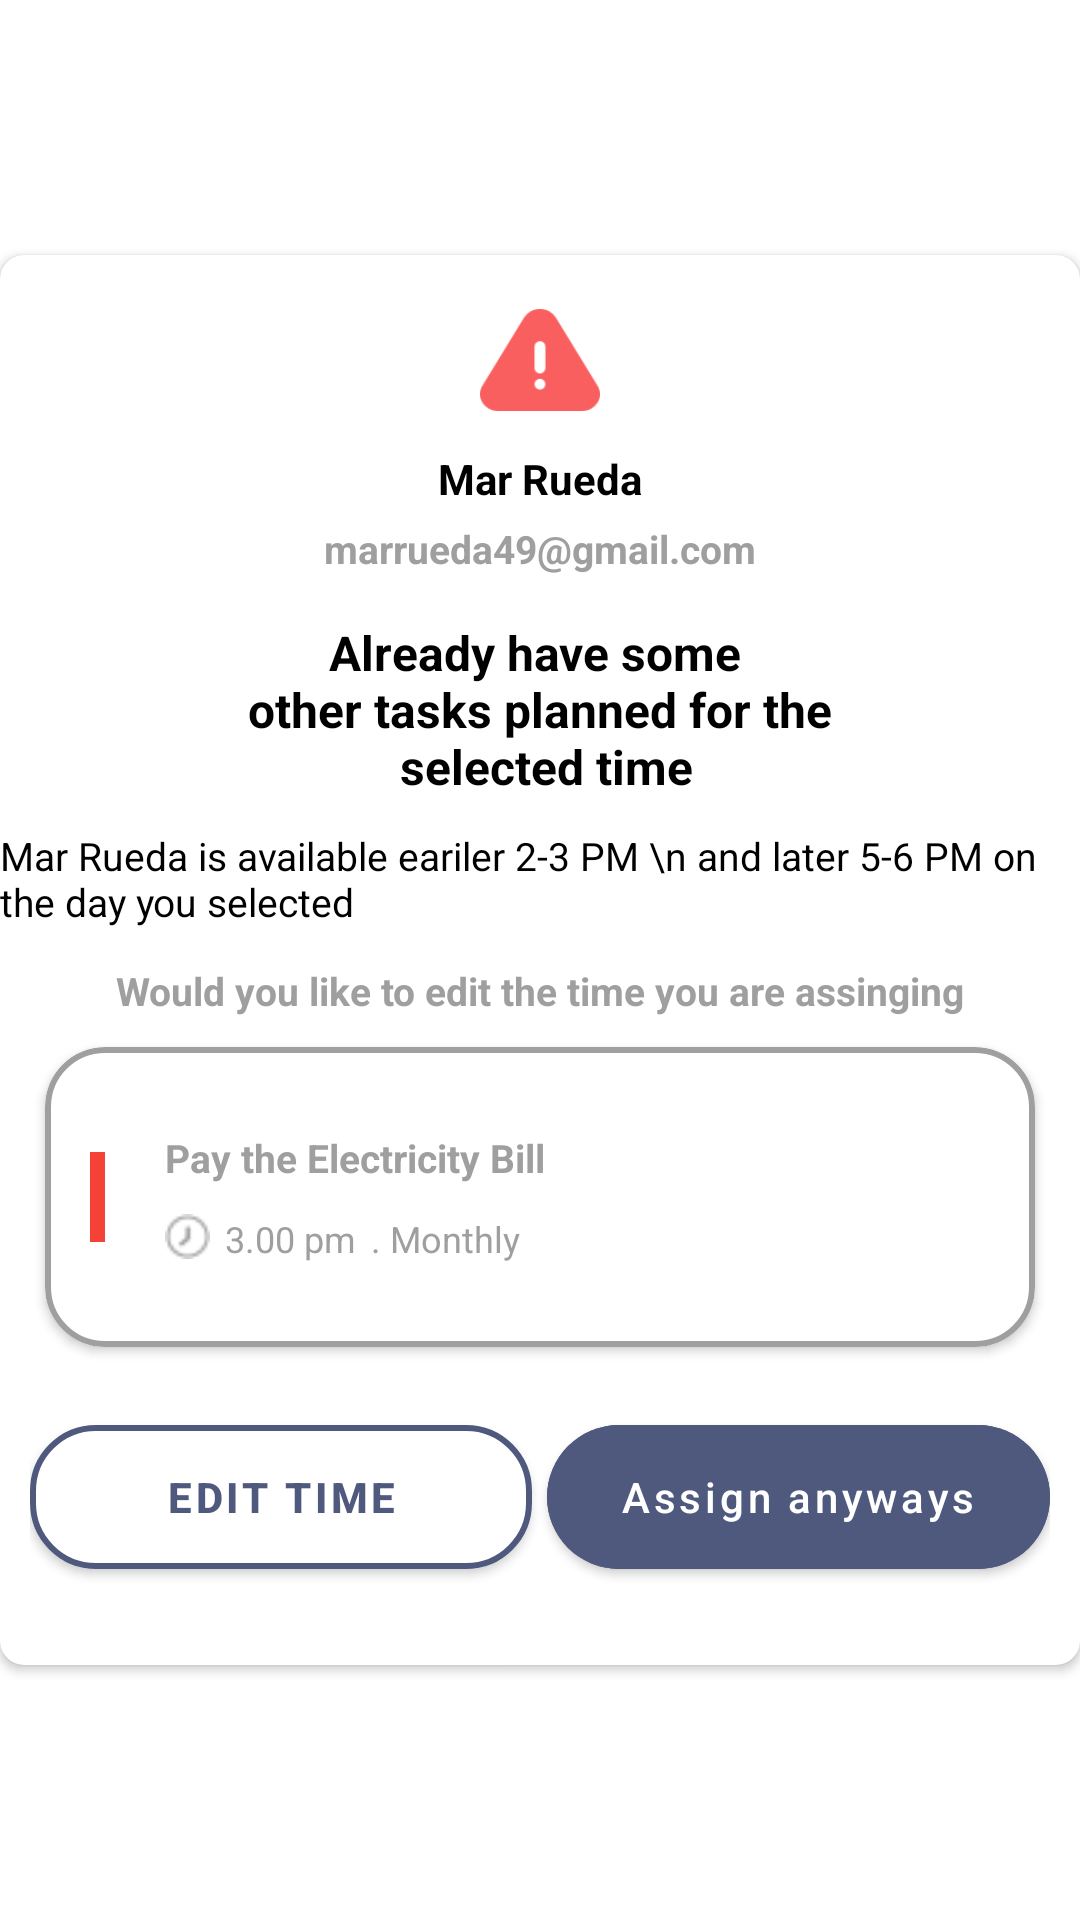

Screen size 1080 × 1920. Icon name, then its center in pixels as point (x, y):
alert: point (540, 360)
pending: point (187, 1236)
